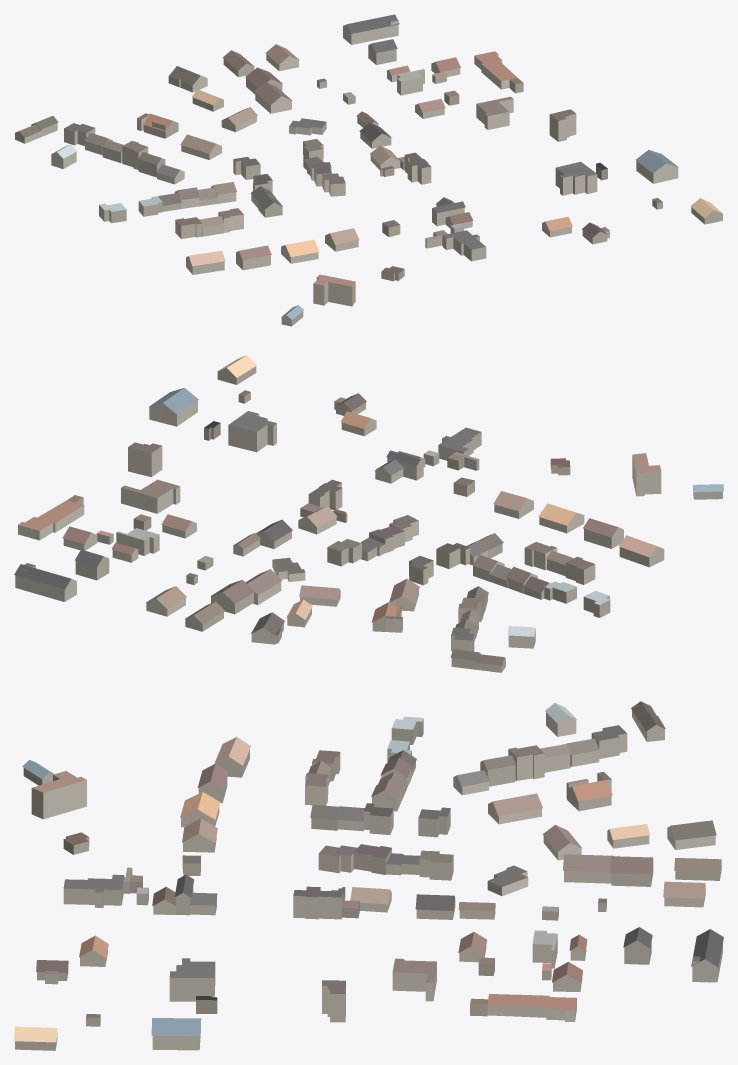
The picture shows the model from 3 angles, top to bottom: view 1: azimuth 30°, elevation 25°; view 2: azimuth 150°, elevation 25°; view 3: azimuth 270°, elevation 25°; orthographic projection. The views are drawn at different scales.
Visible parts, largest first — view 1: tuile; view 2: tuile; view 3: tuile.
Part boxes in pixels (bbox=[...]): tuile: bbox=[15, 14, 722, 326]; tuile: bbox=[14, 355, 723, 672]; tuile: bbox=[14, 701, 723, 1050].
Bounding box in the file's own units: 261 × 19.91 × 250.
